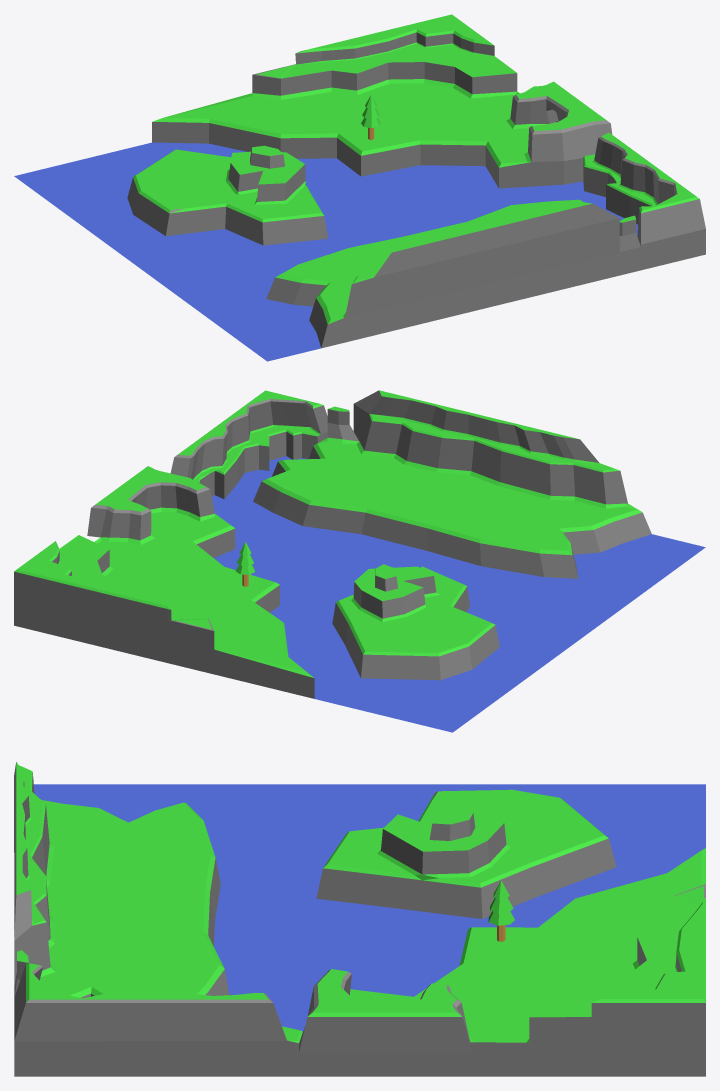
File: ModelNiveau1.fbx
3 renders of one model, top to bottom at view 1: azimuth 30°, elevation 25°; view 2: azimuth 150°, elevation 25°; view 3: azimuth 270°, elevation 25°, orthographic. The views are drawn at different scales.
Visible parts, largest first — view 1: Niveau; view 2: Niveau; view 3: Niveau, Arbre.
Part boxes in pixels (x1,y1,x2,y2): Niveau: (14, 14, 705, 361); Niveau: (14, 390, 705, 732); Niveau: (14, 762, 705, 1076); Arbre: (488, 880, 514, 941).
Bounding box in the file's own units: 10292 × 1698 × 10005.
